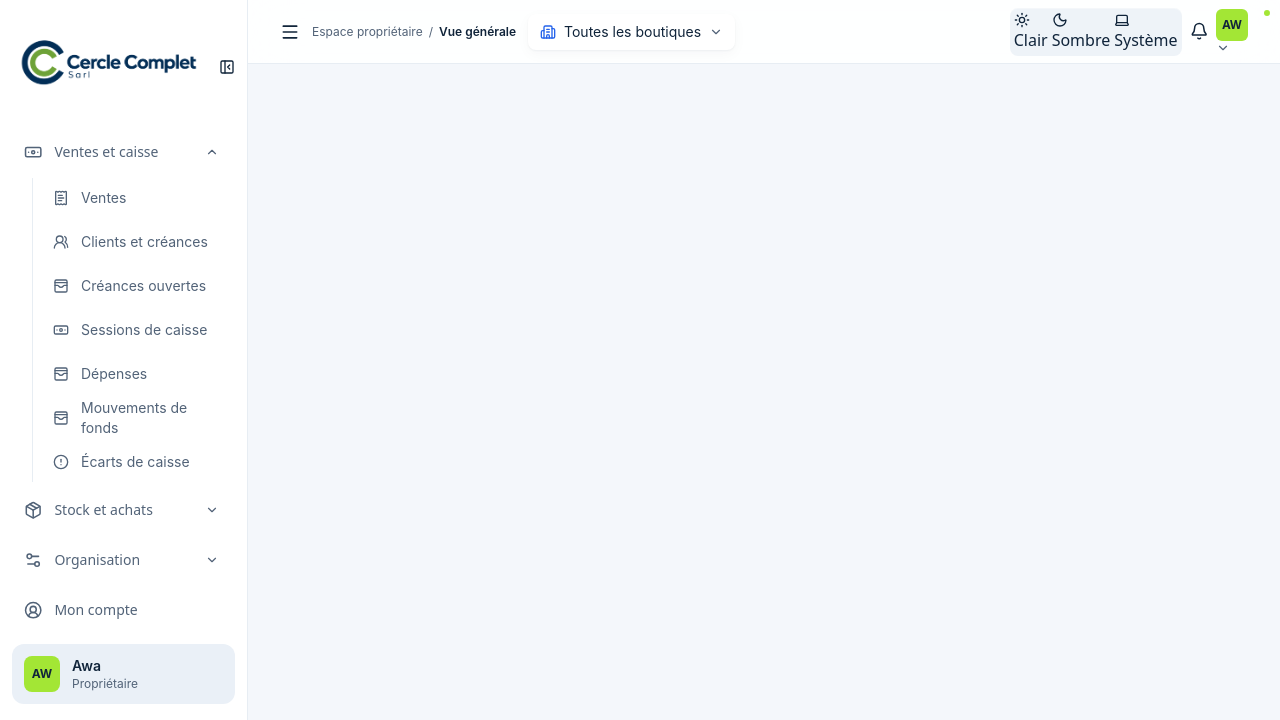
Scenario: coquille authentifiée › montre la navigation propriétaire et refuse un faux chiffre
(page scrolled)
Expected: the navigation bar named "Navigation principale" is shown, [12, 142, 231, 632]
Click the button "Organisation". click: point(122, 560)
box: [12, 538, 231, 582]
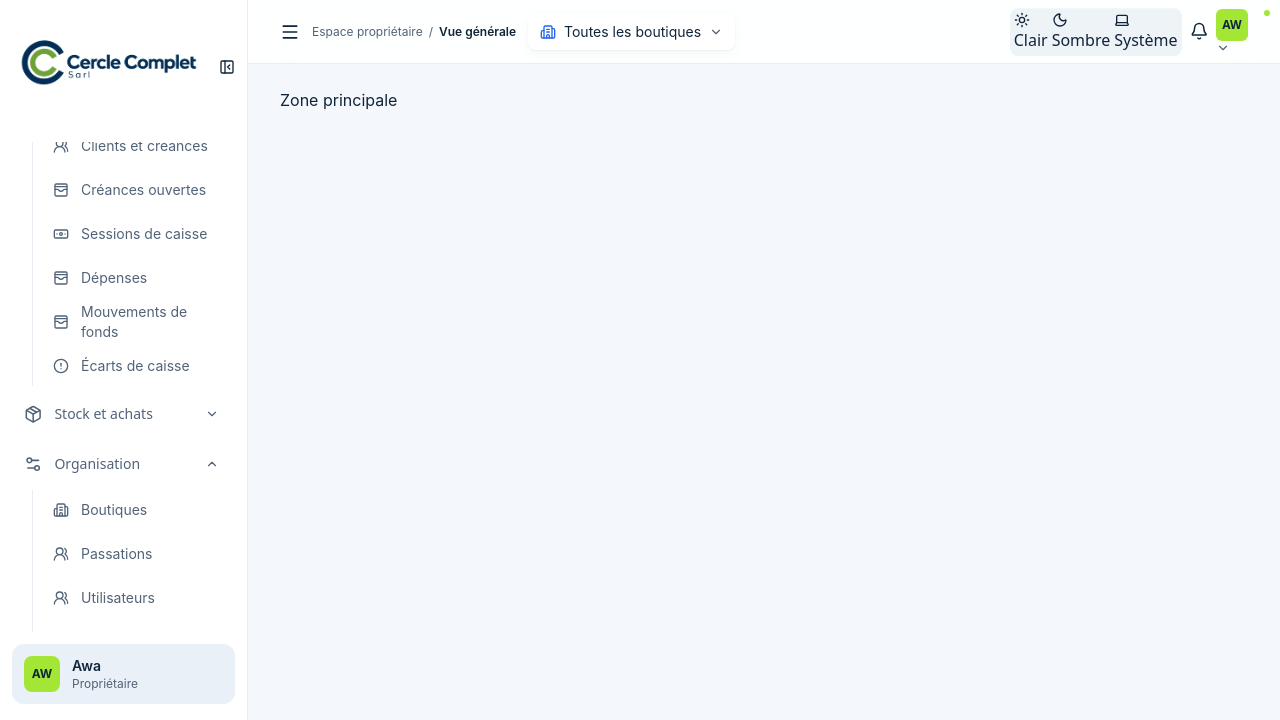
Expected: the text "Awa" is shown, [72, 657, 101, 674]
Expected: the link "Utilisateurs" is shown, [53, 589, 155, 606]
